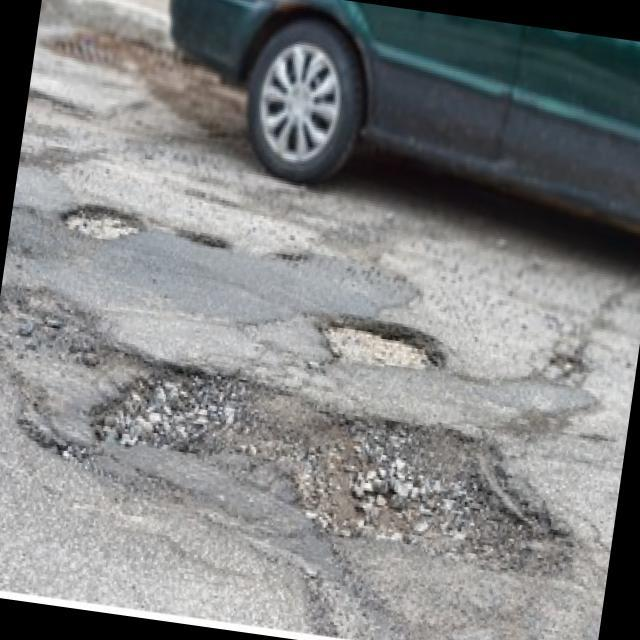Pothole: (72, 349, 586, 584), (0, 278, 108, 397), (311, 307, 448, 380), (59, 196, 149, 250), (175, 224, 231, 252), (546, 348, 590, 378)
